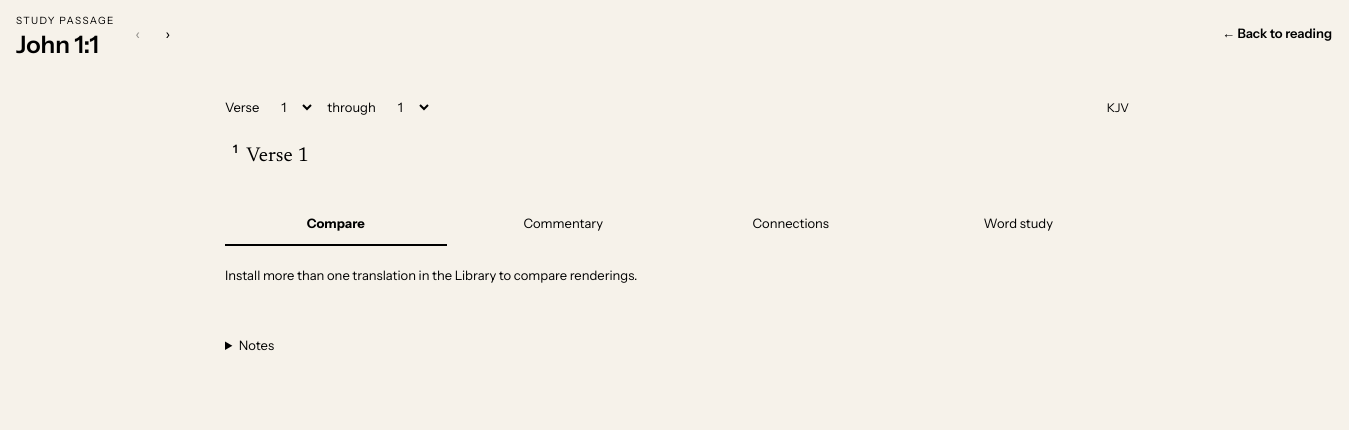
focused Study tools › removes unrelated commentary when the selected verse has no note, including whitespace-only entries
The width and height of the screenshot is (1349, 430).
Click the tab "Commentary". click: (563, 224)
box: [452,202,674,246]
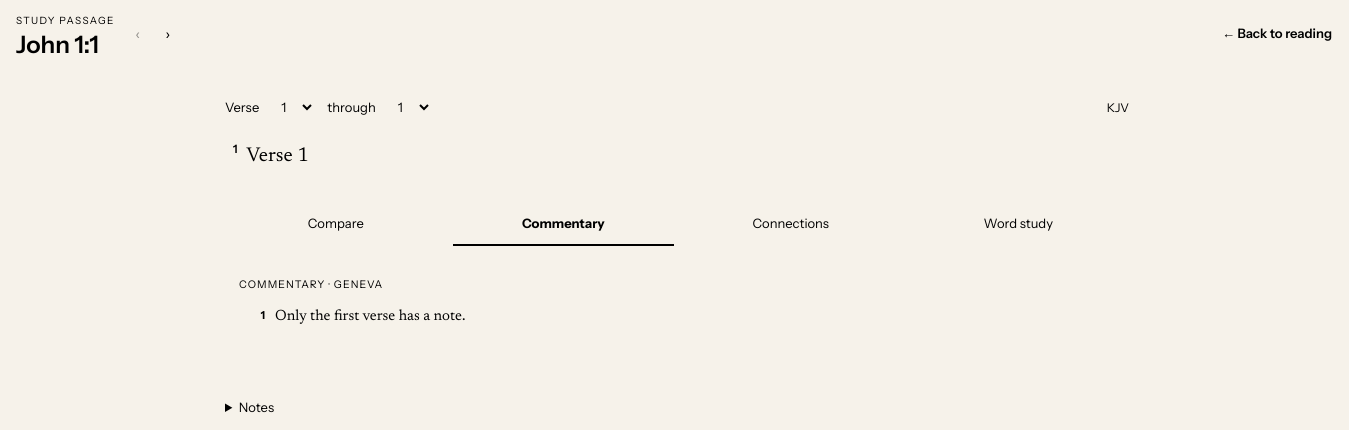
Check: the element with class "commentary-card" shows "Only the first verse", box [275,309,465,324]
Select "2" in the dropdown named "From verse". click: (291, 107)
box: [267,92,315,122]
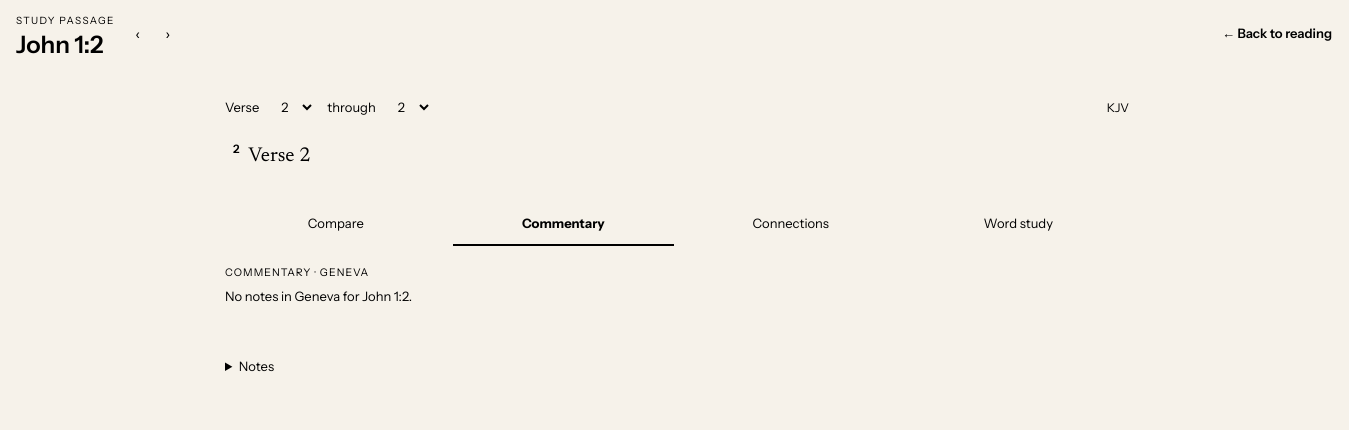
Check: the panel with id "study-panel-commentary" shows "No notes in Geneva for John 1:2.", box [225,288,412,304]
Check: the text "Only the first verse" is gone
Select "3" in the dropdown named "From verse". click: (291, 107)
box: [267,92,315,122]
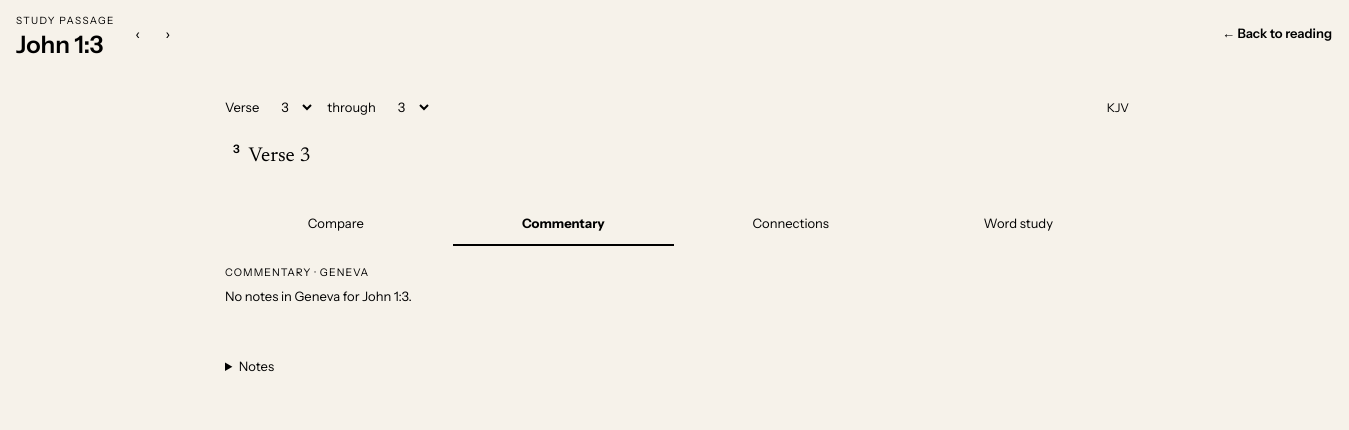
Check: the panel with id "study-panel-commentary" shows "John 1:3.", box [225,288,412,304]
